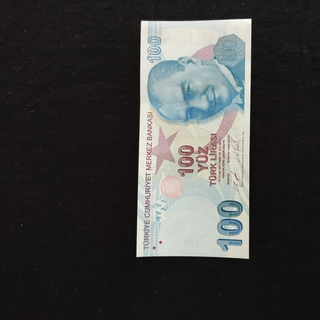100TLFront: (136, 17, 253, 261)
